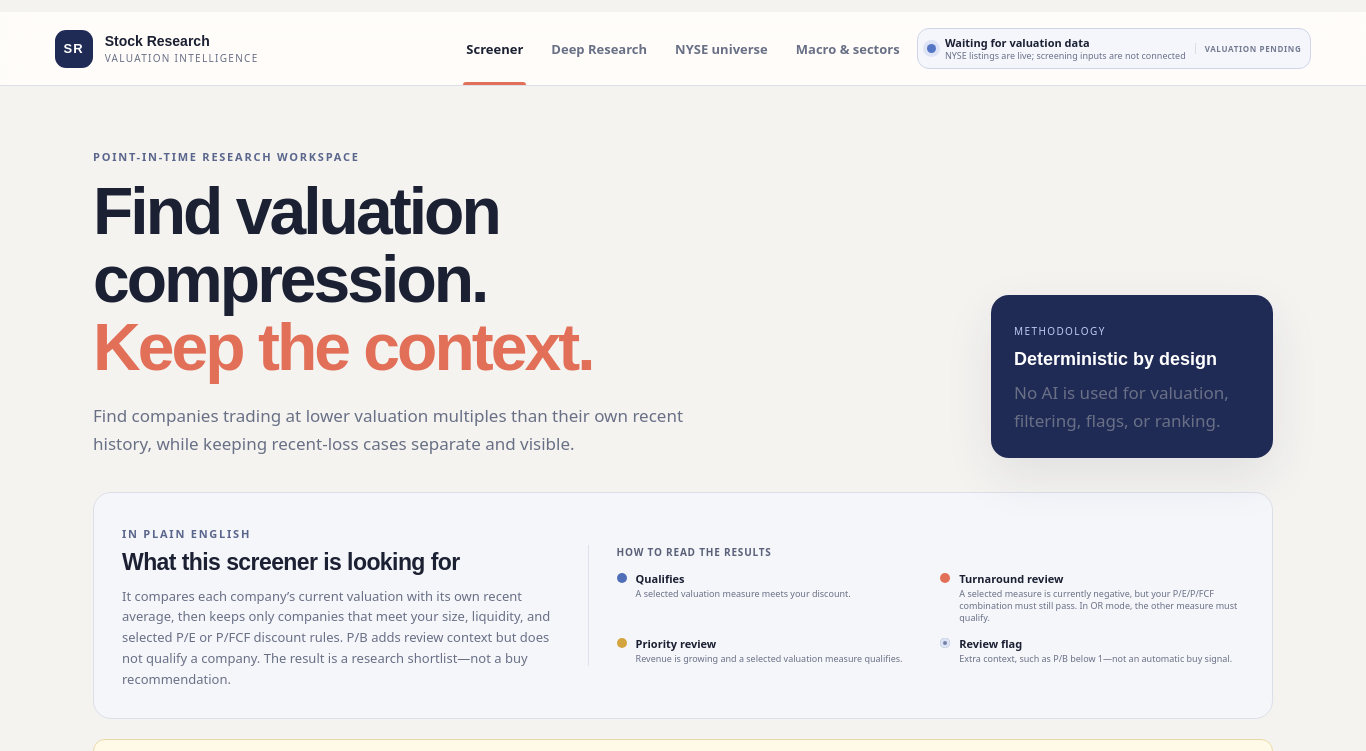
it: stock research dashboard › retries a failed research job from the Deep Research tab
Click the button "Deep Research": (599, 48) x1=548 y1=12 x2=650 y2=85
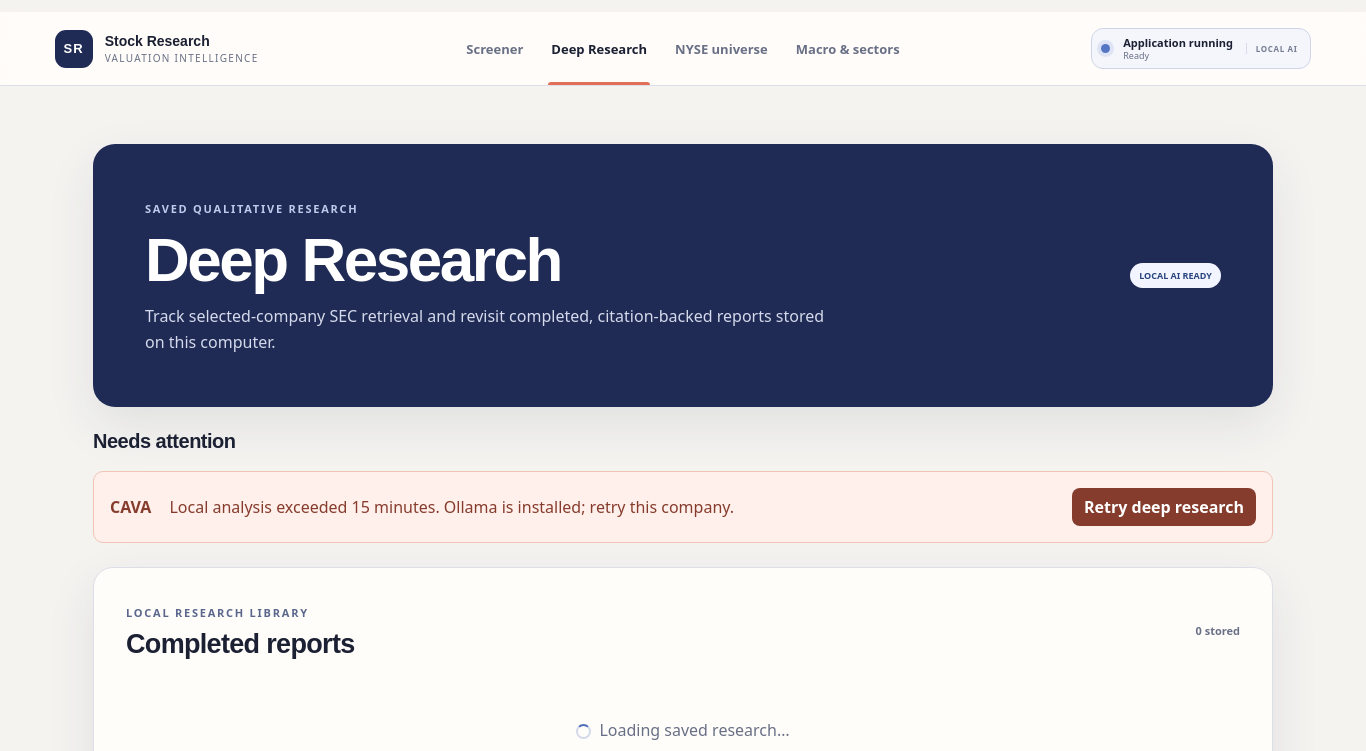
Click the button "Retry deep research": (1164, 507) x1=1072 y1=488 x2=1256 y2=526
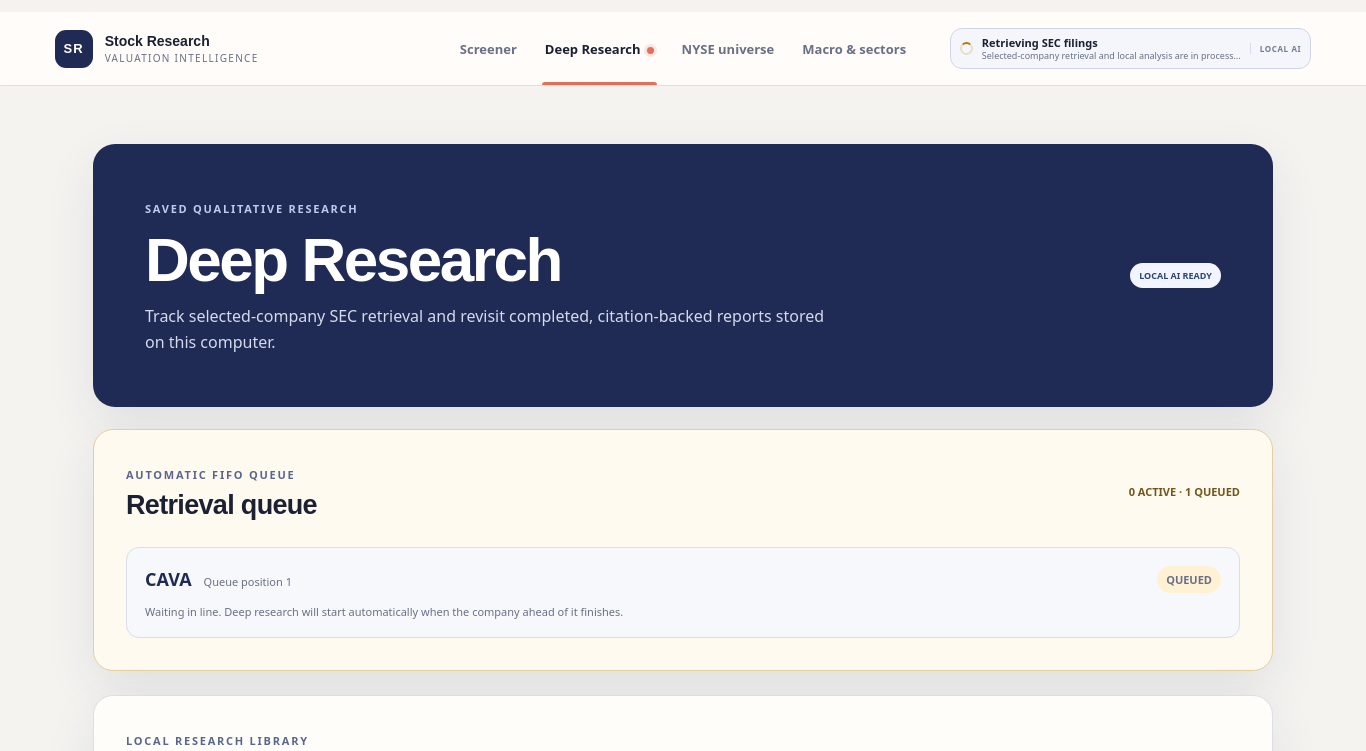
Check: the text "Queue position 1" is shown, box x1=204 y1=574 x2=292 y2=589
Check: the text "Local analysis exceeded 15 minutes. Ollama is installed; retry this company." is gone
